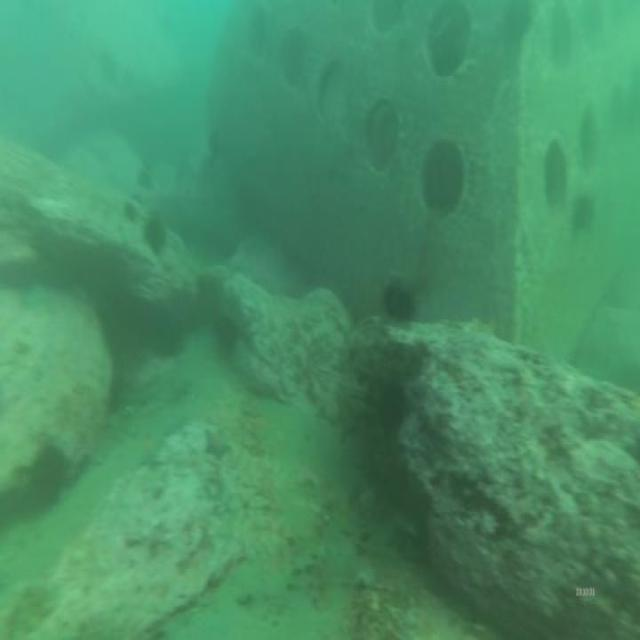echinus: (385, 267, 419, 329), (145, 204, 166, 261)
starfish: (202, 420, 234, 468)
